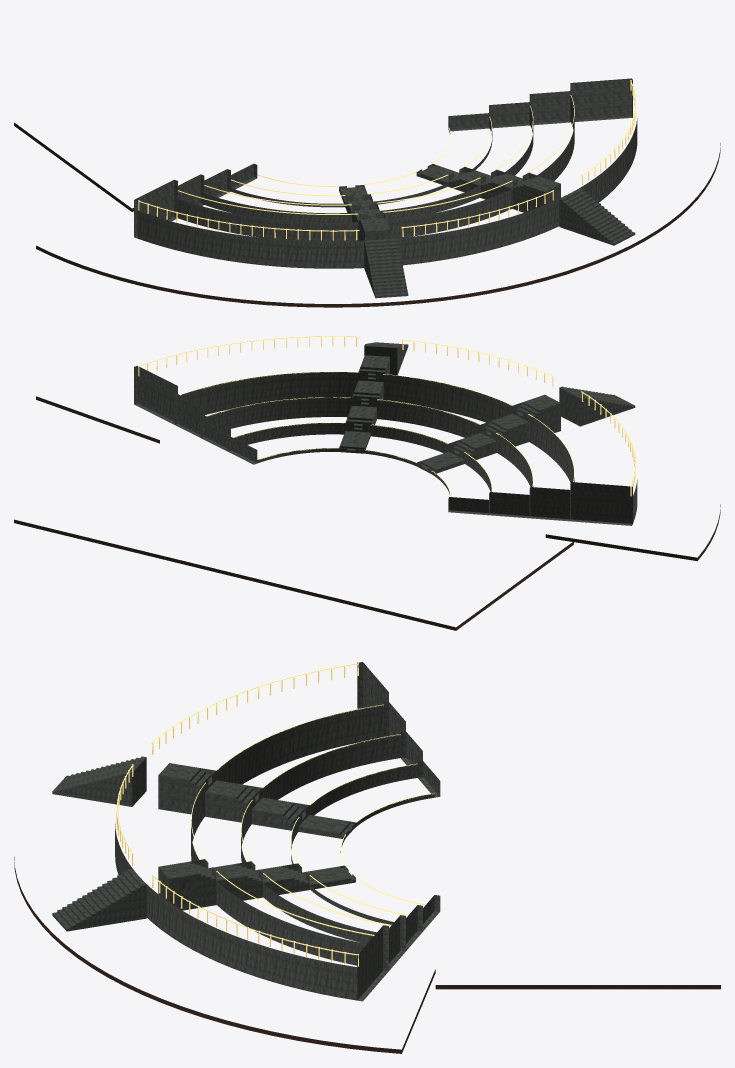
The model's file is arena.glb.
3 views of the same model, one above another, from view 1: azimuth 30°, elevation 25°; view 2: azimuth 150°, elevation 25°; view 3: azimuth 270°, elevation 25° (orthographic). The views are drawn at different scales.
Parts seen in each view (by area): view 1: arena; view 2: arena; view 3: arena.
Part boxes in pixels (x1,y1,x2,y2): arena: (14, 78, 720, 307); arena: (14, 336, 720, 630); arena: (14, 662, 720, 1053).
Bounding box in the file's own units: 77.8 × 4.65 × 59.5.
5 materials, 4 textured.
